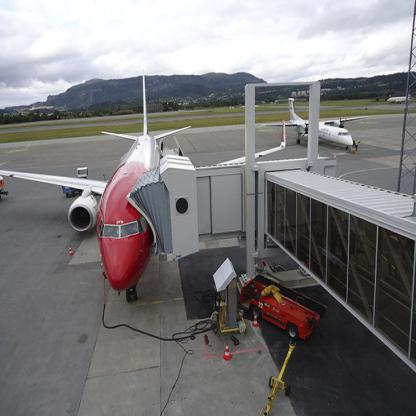boarding bridge: (118, 160, 177, 264)
